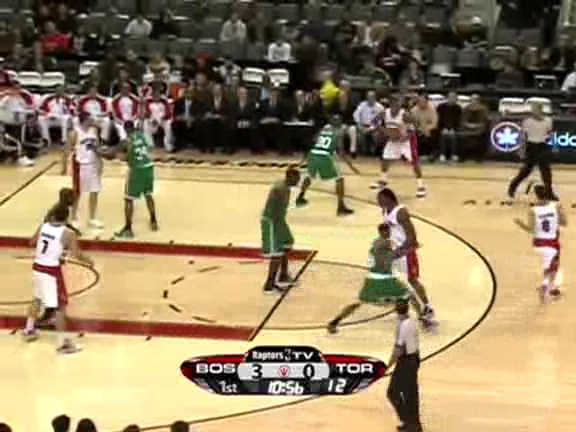person: (367, 235, 401, 316), (366, 235, 400, 316), (368, 235, 402, 316), (367, 234, 401, 315), (367, 236, 401, 317)
target_negative: (475, 201, 567, 245), (252, 148, 373, 178), (266, 404, 377, 431), (551, 287, 572, 330), (134, 287, 152, 330), (496, 322, 545, 324)
